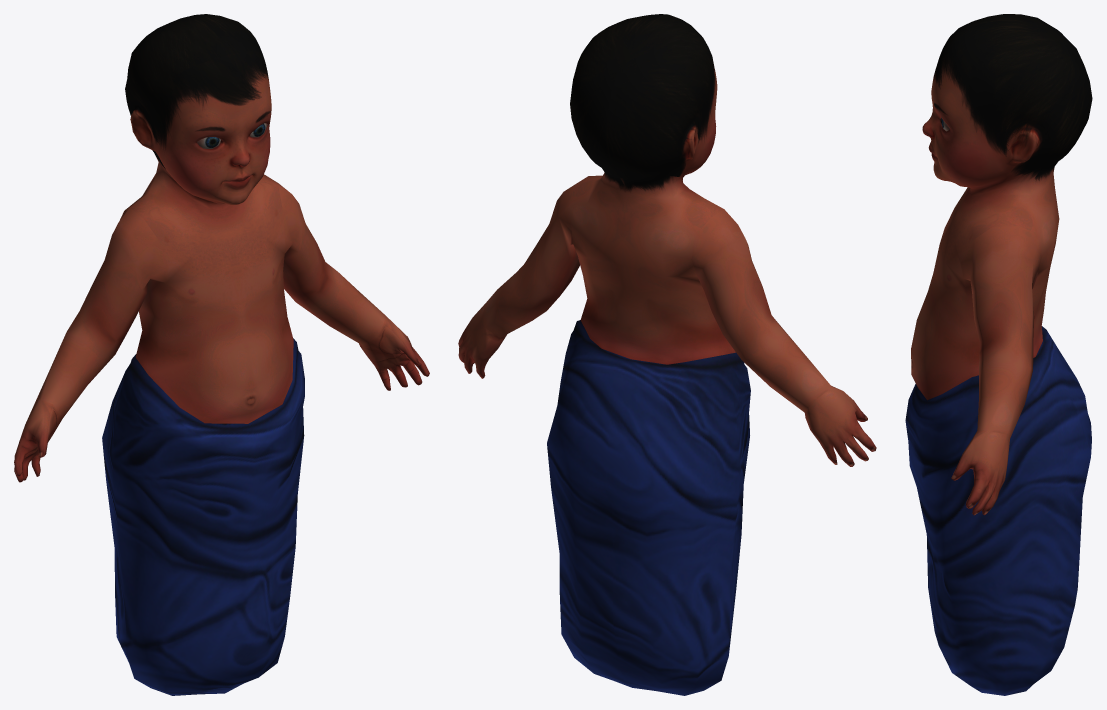
The model's file is Elizabeth_baby.obj.
The picture shows the model from 3 angles, left to right: view 1: azimuth 30°, elevation 25°; view 2: azimuth 150°, elevation 25°; view 3: azimuth 270°, elevation 25°; orthographic projection.
Bounding box in the file's own units: 0.8524 × 1.29 × 0.3356.
